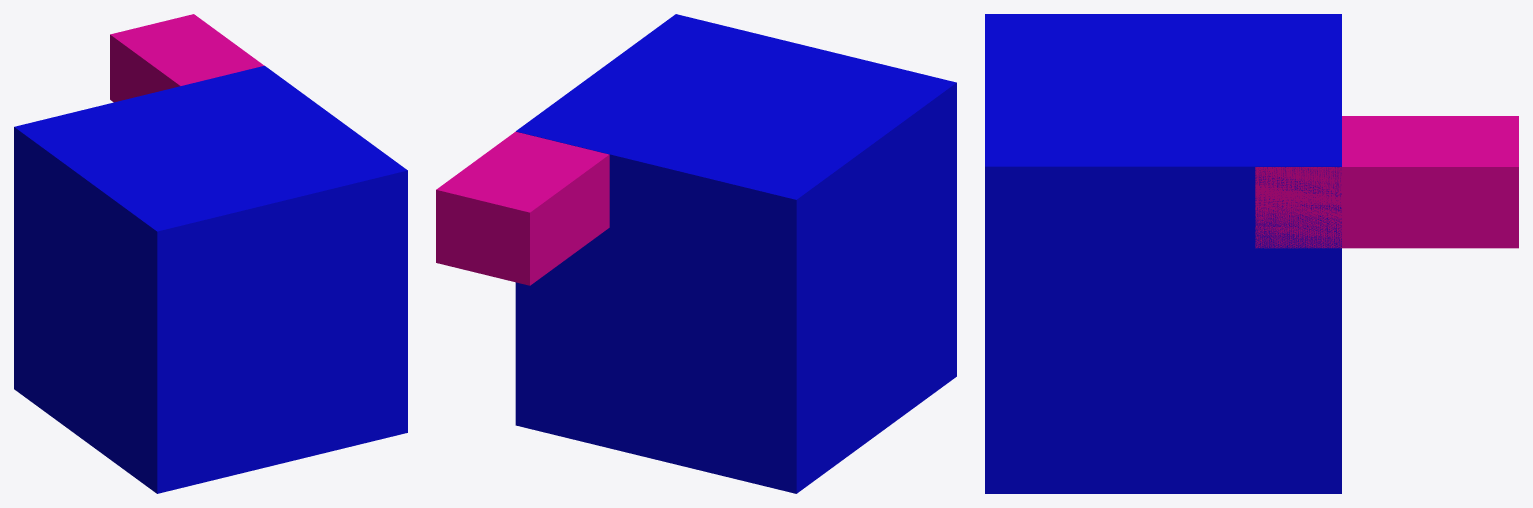
File: TuileCarree10.fbx
3 renders of one model, left to right at view 1: azimuth 30°, elevation 25°; view 2: azimuth 150°, elevation 25°; view 3: azimuth 270°, elevation 25°, orthographic. The views are drawn at different scales.
Parts seen in each view (by area): view 1: 1,0; view 2: 1,0; view 3: 1,0.
Boxes of the visible parts, x1=… form: 1,0: x1=14, y1=14, x2=407, y2=493; 1,0: x1=436, y1=14, x2=956, y2=493; 1,0: x1=985, y1=14, x2=1518, y2=493.
Size of the model in its own units: 100 by 100 by 148.
